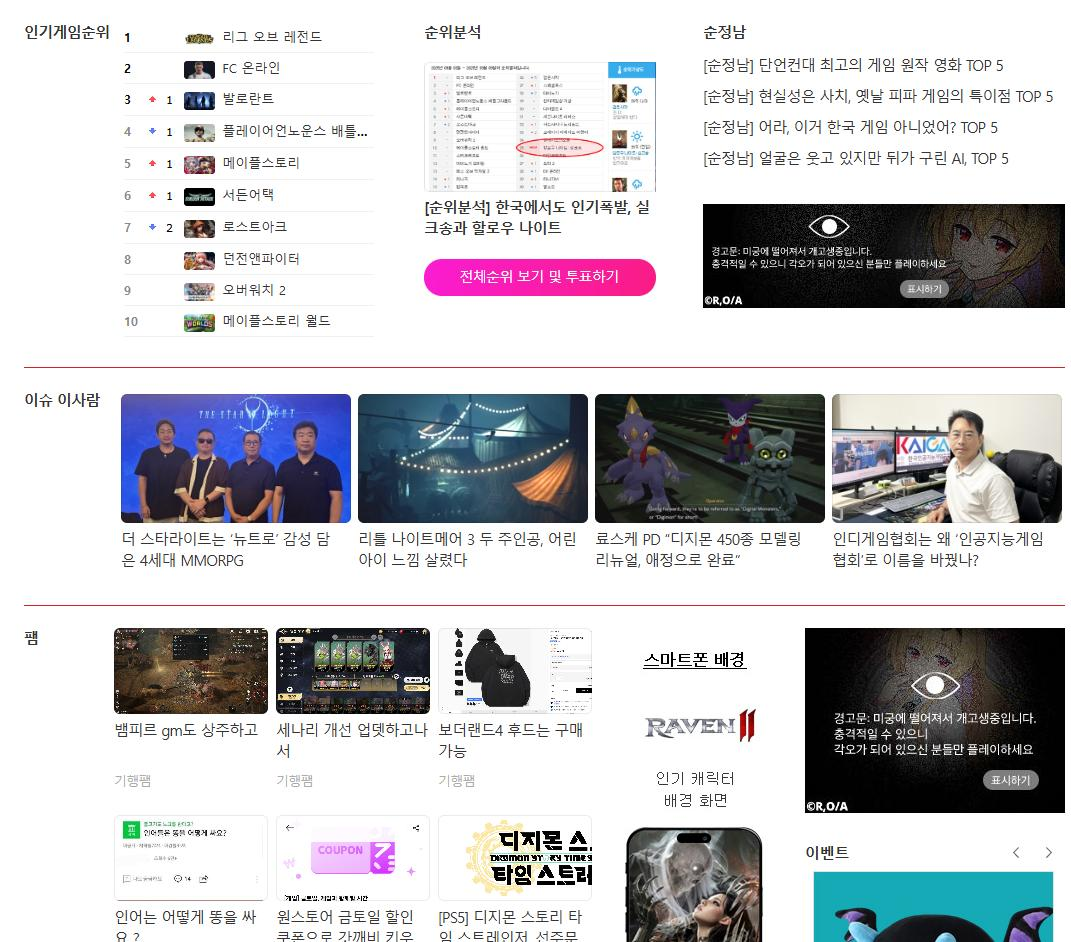button: (423, 259, 644, 293), (1006, 843, 1066, 867)
popup: (809, 623, 1070, 817), (704, 203, 1071, 309)
